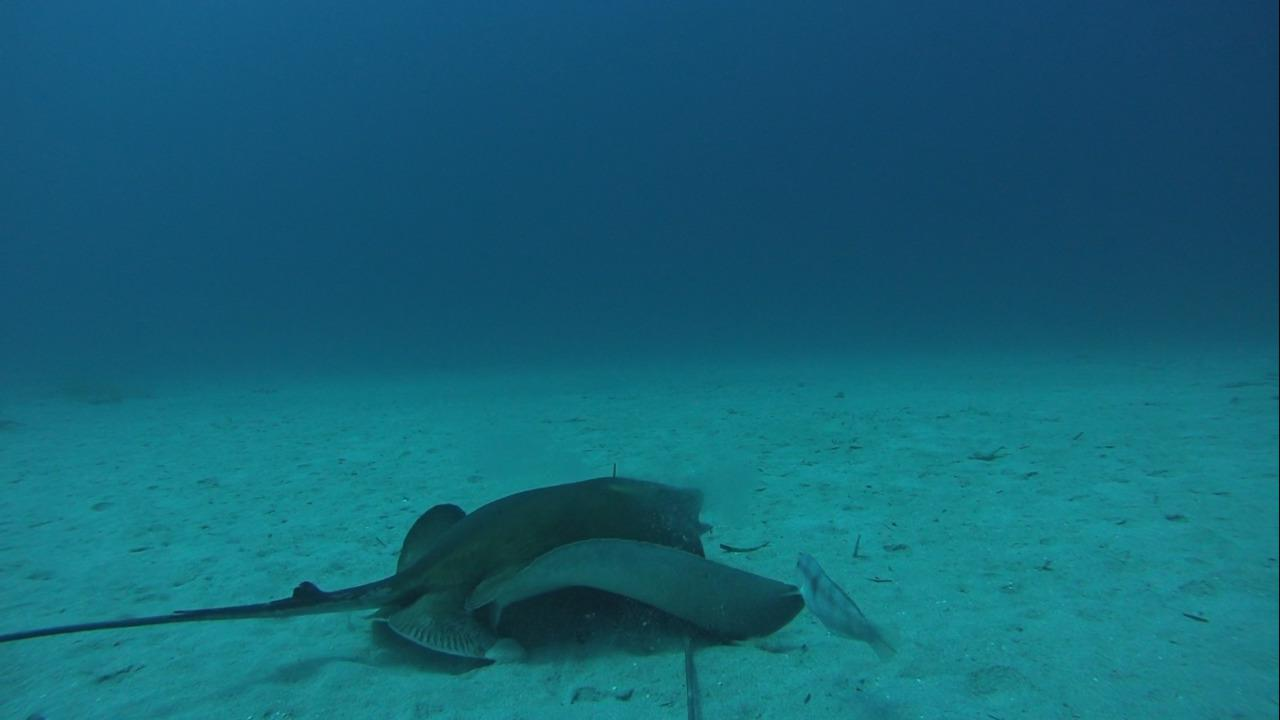myliobatis: (6, 473, 804, 667)
raor: (787, 541, 899, 667)
